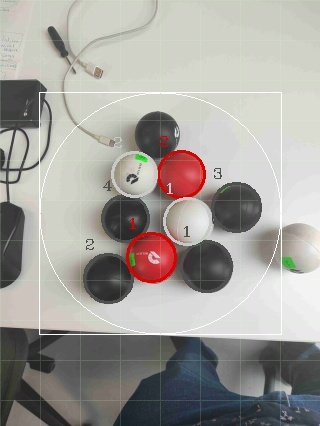Pelota blanca: (63, 0, 158, 81), (180, 238, 233, 294), (209, 180, 262, 235), (82, 252, 134, 304), (161, 196, 214, 246), (108, 150, 158, 198), (276, 222, 320, 275), (0, 201, 25, 288)
Pelota negra: (111, 350, 305, 425), (82, 252, 134, 304), (100, 196, 150, 243), (132, 110, 179, 160)
Pelota roja: (124, 230, 177, 283), (156, 148, 206, 200)
